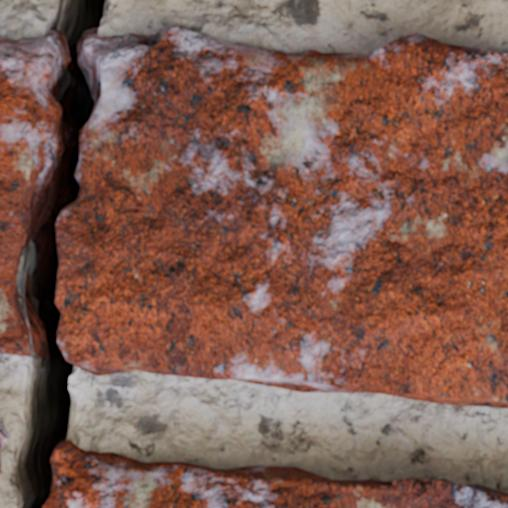brick: (44, 441, 507, 507), (0, 423, 8, 448)
broken_brick: (56, 24, 507, 409), (0, 35, 55, 357)
crack: (1, 0, 109, 507)
